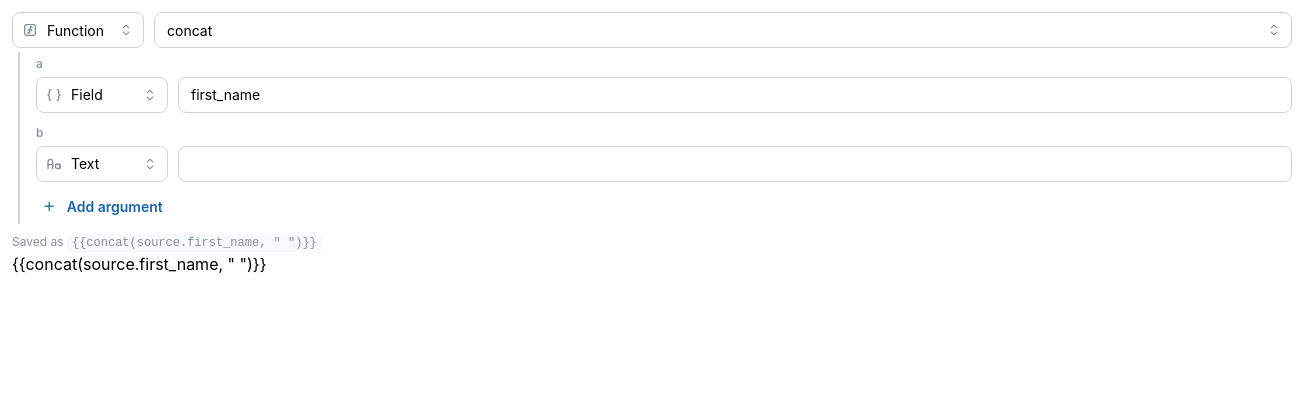
ValueBuilder › adds another argument to a function that takes any number
Click the button with aria-label "Add argument to concat": (104, 207) [36,194,172,220]
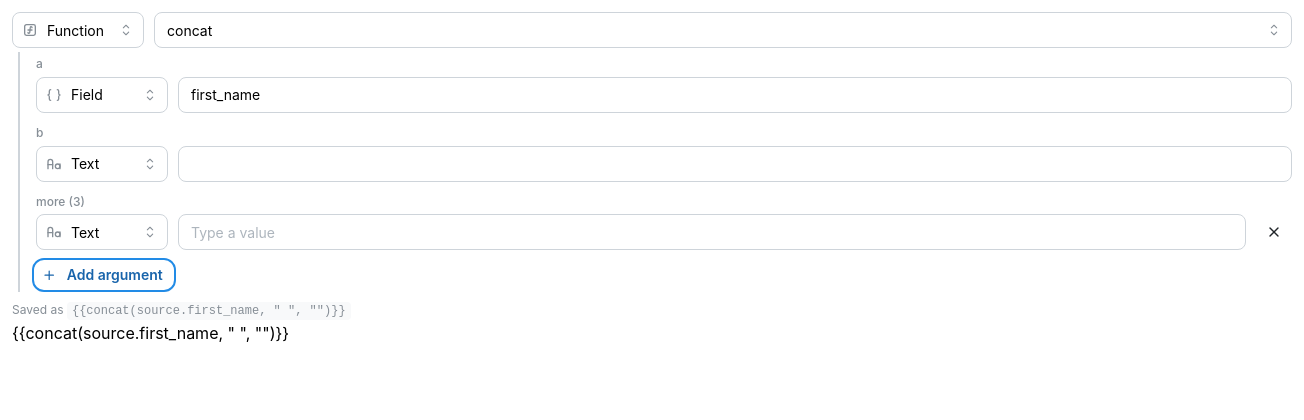
Click the dropdown named "Value › … 3 type": (102, 232) [36,214,168,250]
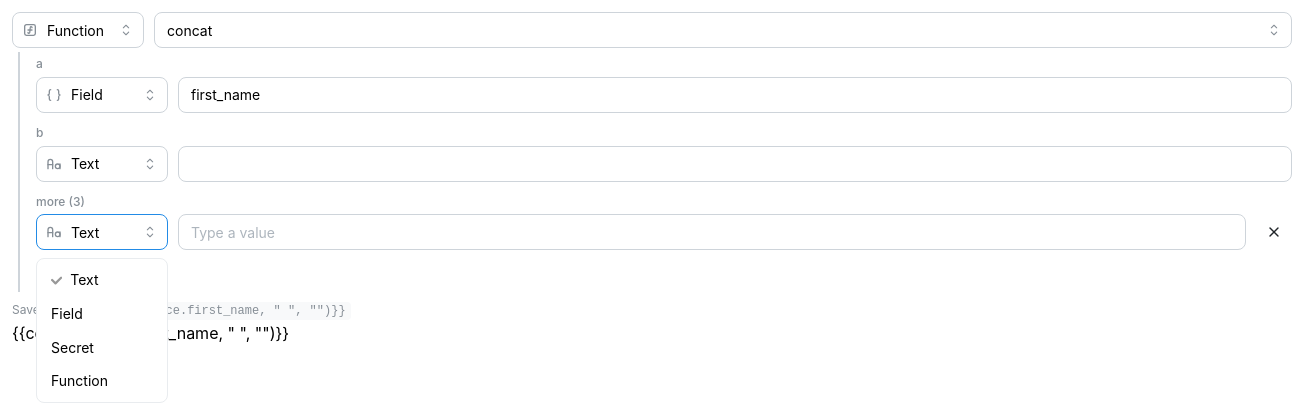
Click the option "Field": (67, 314) [51,305,83,322]
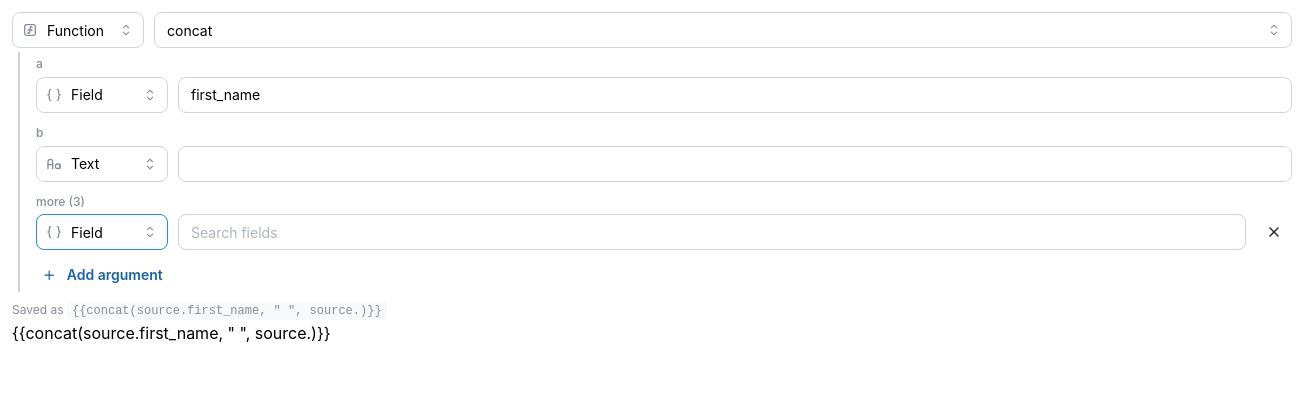
In the dropdown named "Value › … 3 field": (712, 232) [178,214,1246,250], type "nickname"
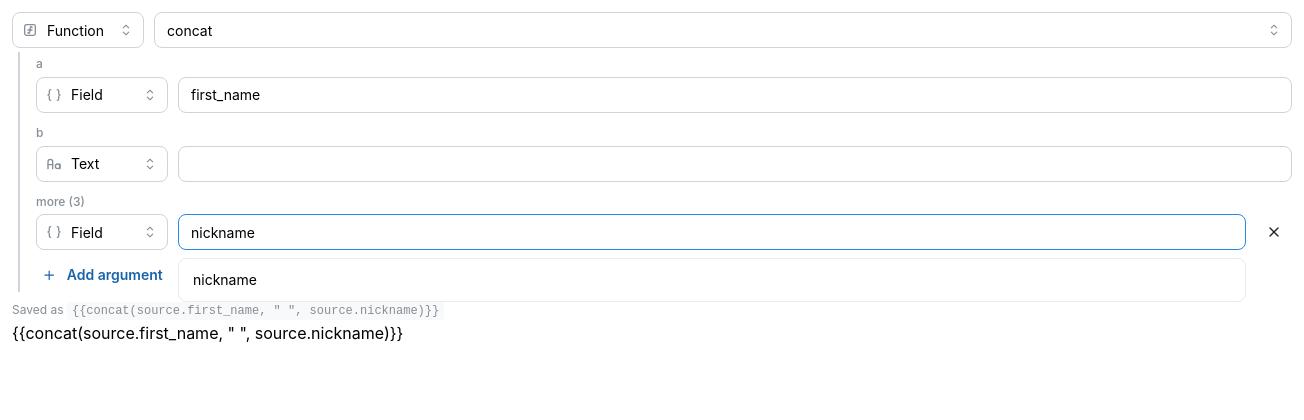
Now the text "{{concat(source.first_name, \" \", source.nickname)}}" next to "Saved as" reads "{{concat(source.first_name, \" \", source.nickname)}}", box [72,304,439,318]
